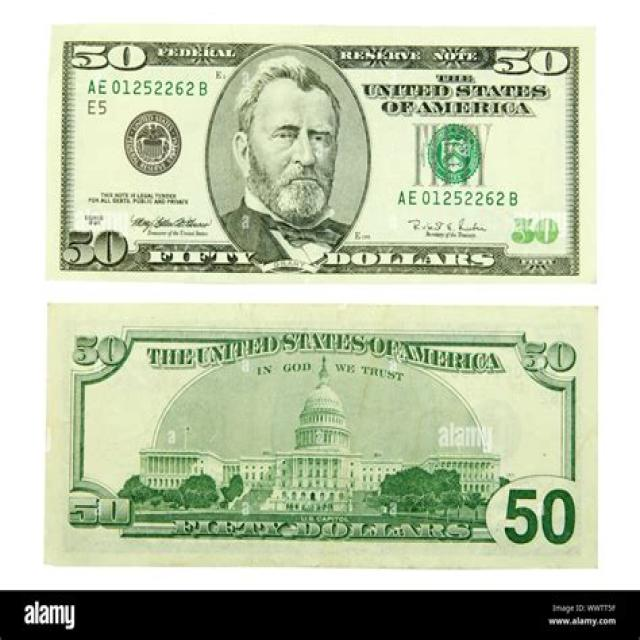Fifty: (46, 303, 599, 569), (49, 26, 598, 285)
